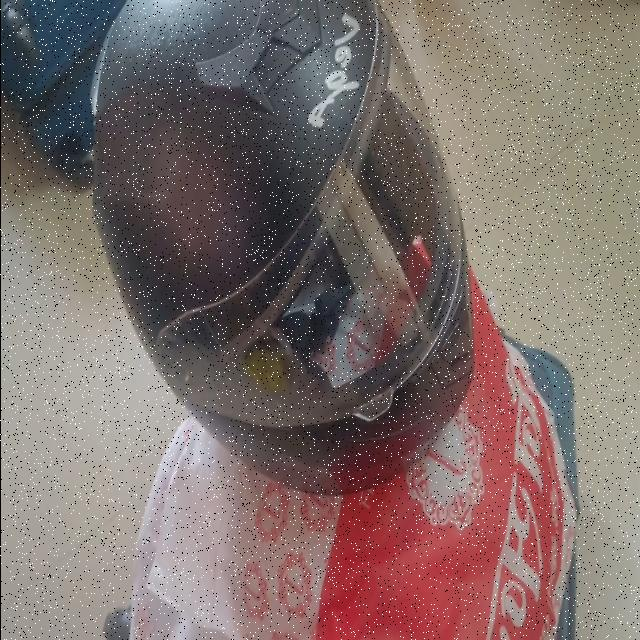Helmet: (90, 2, 471, 493)
